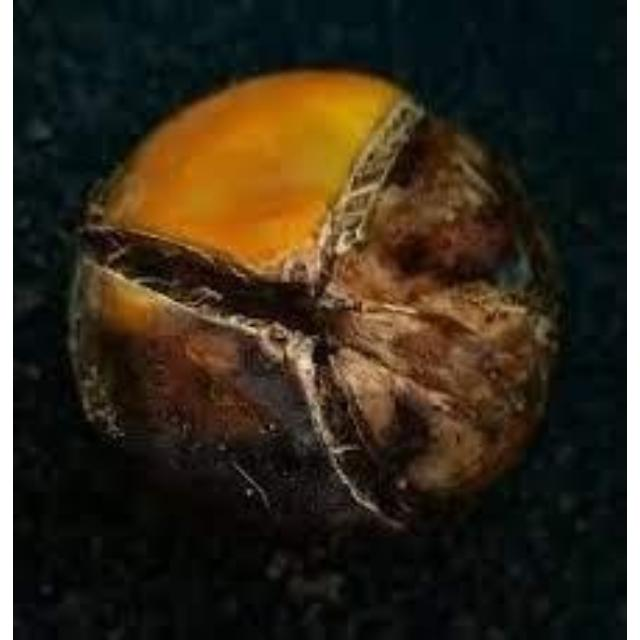damaged: (69, 70, 558, 528)
